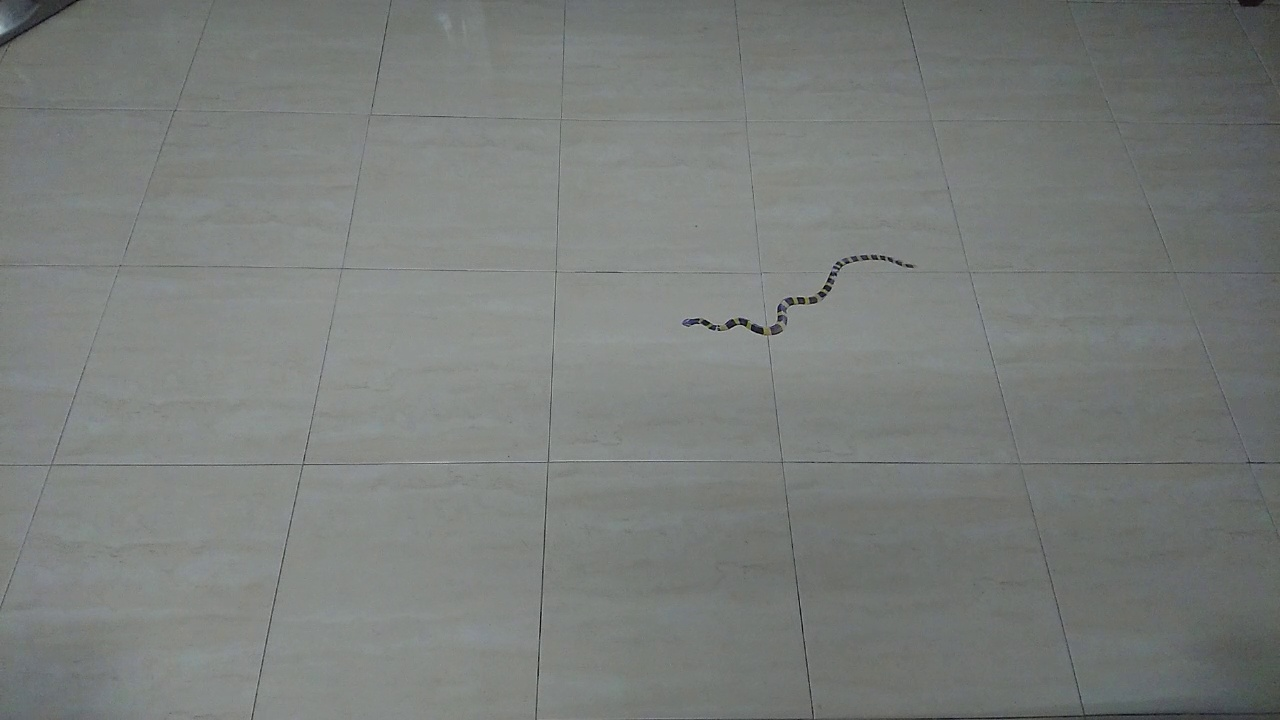snake: (668, 237, 926, 349)
